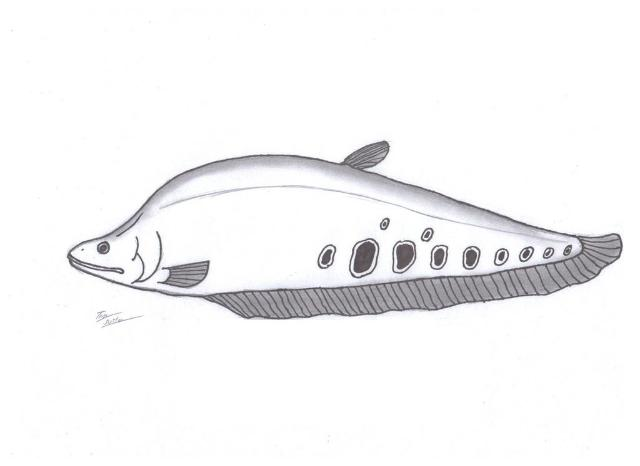Mulut: (66, 241, 132, 287)
Sirip Dada: (160, 255, 216, 293)
Sirip Punggung: (336, 132, 396, 176)
